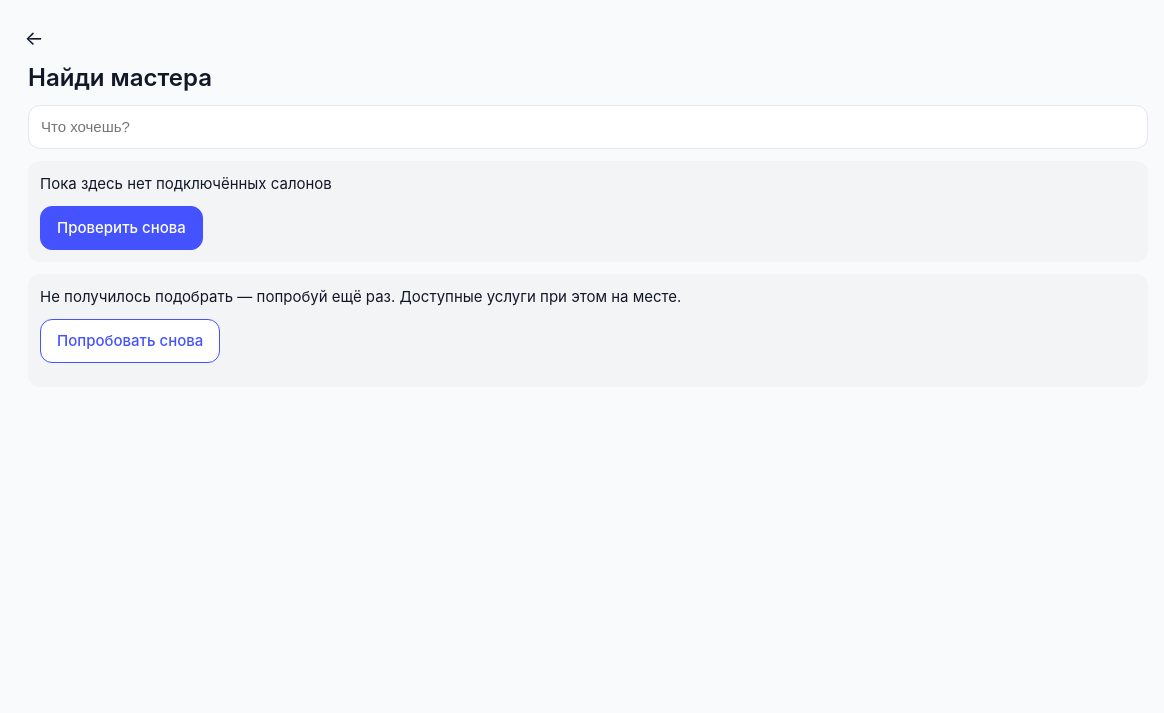
CustomerCatalogScreen — empty states (DRF-1482) › region_empty: no salons connected — own text and retry CTA
Expected: the text "Пока здесь нет подключённых салонов" is shown, x1=40 y1=174 x2=332 y2=193
Click the button "Проверить снова": click(121, 228) x1=40 y1=206 x2=203 y2=250
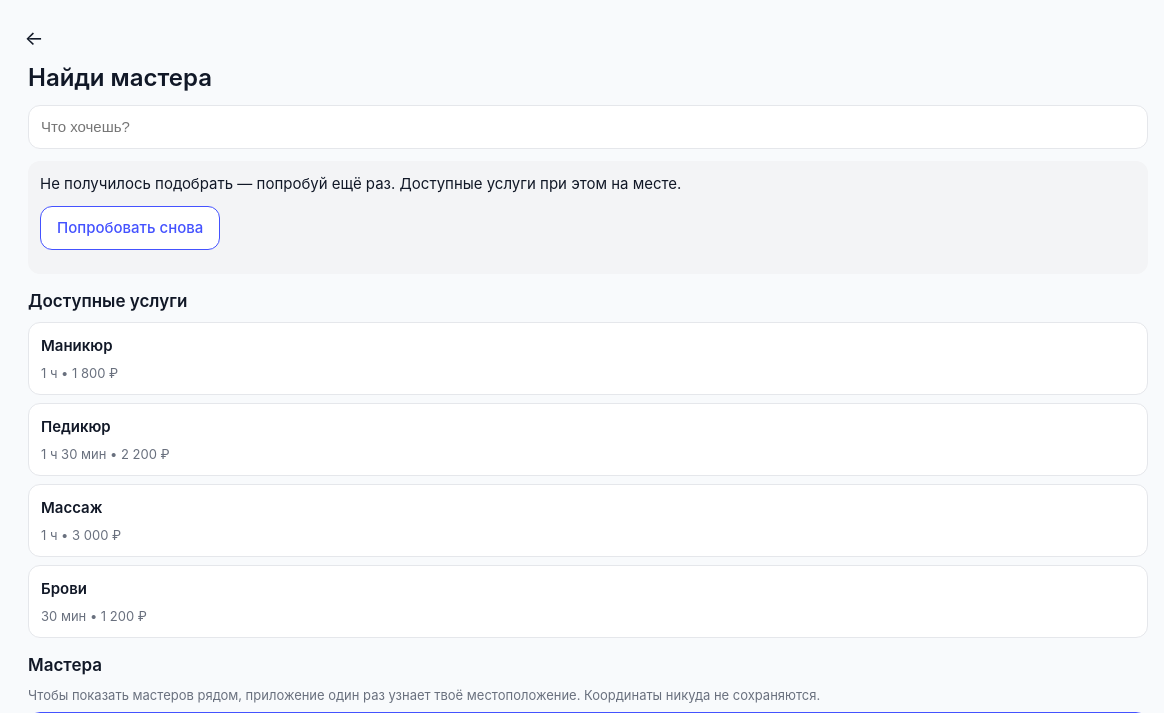
Expected: the element "Доступные услуги" is shown, x1=28 y1=290 x2=1148 y2=638
Expected: the text "Пока здесь нет подключённых салонов" is gone
